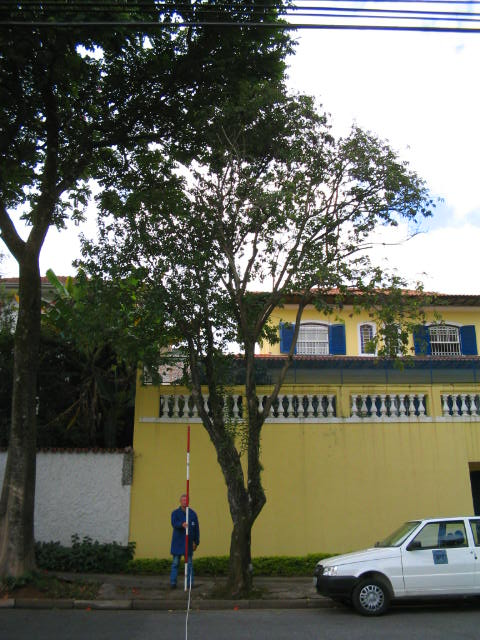crown: (81, 100, 444, 400), (6, 3, 288, 206)
stem: (1, 250, 66, 592), (213, 505, 277, 597)
stick: (171, 423, 200, 592)
tree: (78, 98, 445, 598), (1, 1, 291, 593)
